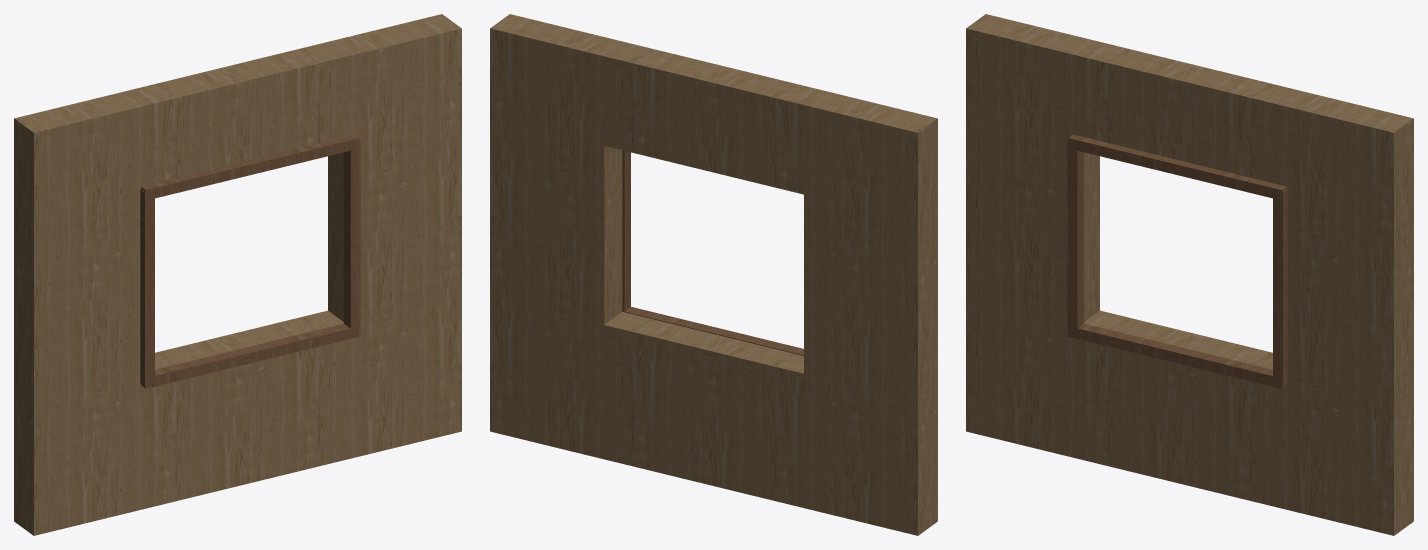
The model's file is build_window_wall.glb.
3 views of the same model, side by side, from view 1: azimuth 30°, elevation 25°; view 2: azimuth 150°, elevation 25°; view 3: azimuth 330°, elevation 25° (orthographic).
Parts seen in each view (by area): view 1: window_wall; view 2: window_wall; view 3: window_wall.
Part boxes in pixels (x1,y1,x2,y2): window_wall: [14, 14, 461, 535]; window_wall: [490, 14, 937, 535]; window_wall: [966, 14, 1413, 535].
Size of the model in its own units: 3 by 2.7 by 0.3.
Materials: 2 (2 with a texture image).
